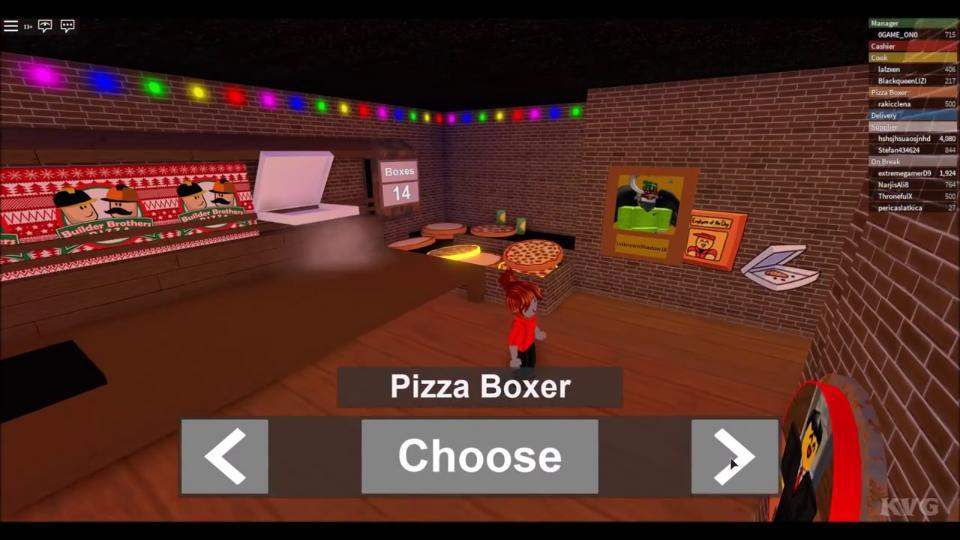Character: (503, 283, 547, 368)
